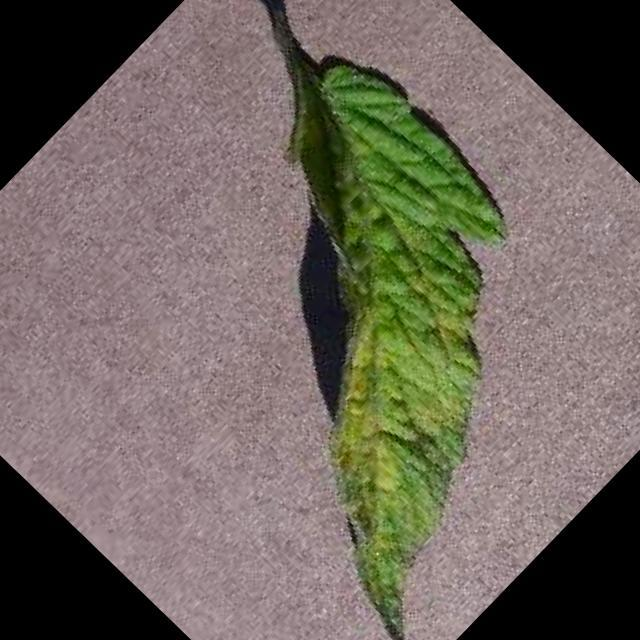Tomato mold leaf: (70, 43, 640, 640)
